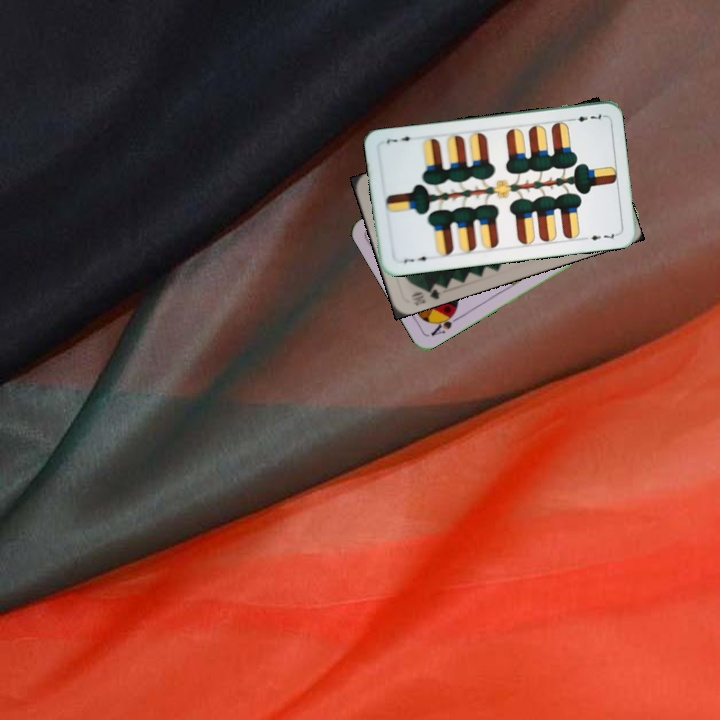E7: (566, 110, 606, 124), (400, 252, 434, 266)
G10: (407, 281, 443, 308)
SA: (427, 307, 463, 339)
